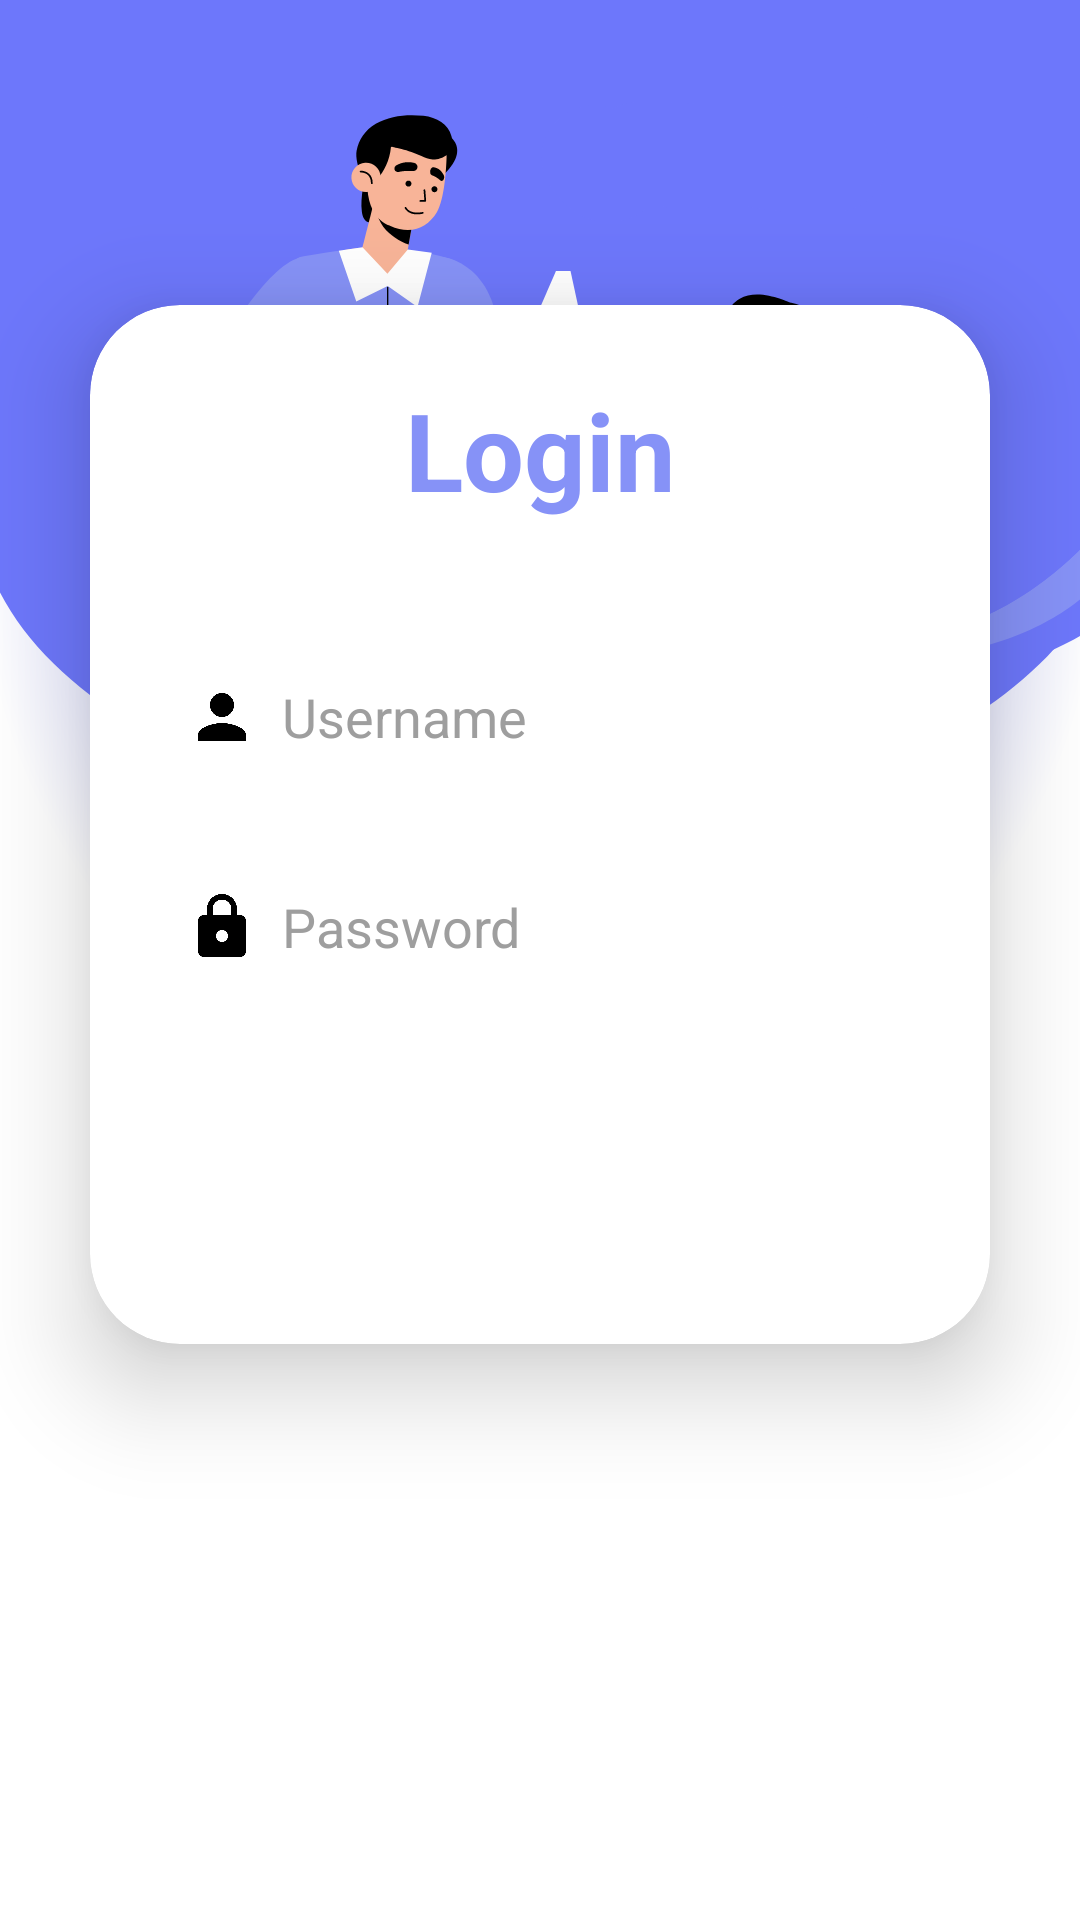

Named icons in this screenshot (1080w x 1920h) and their bounding boxes, (x1, y1, x2, y2):
Lock Icon: (198, 894, 246, 957)
Person Icon: (198, 693, 246, 741)
